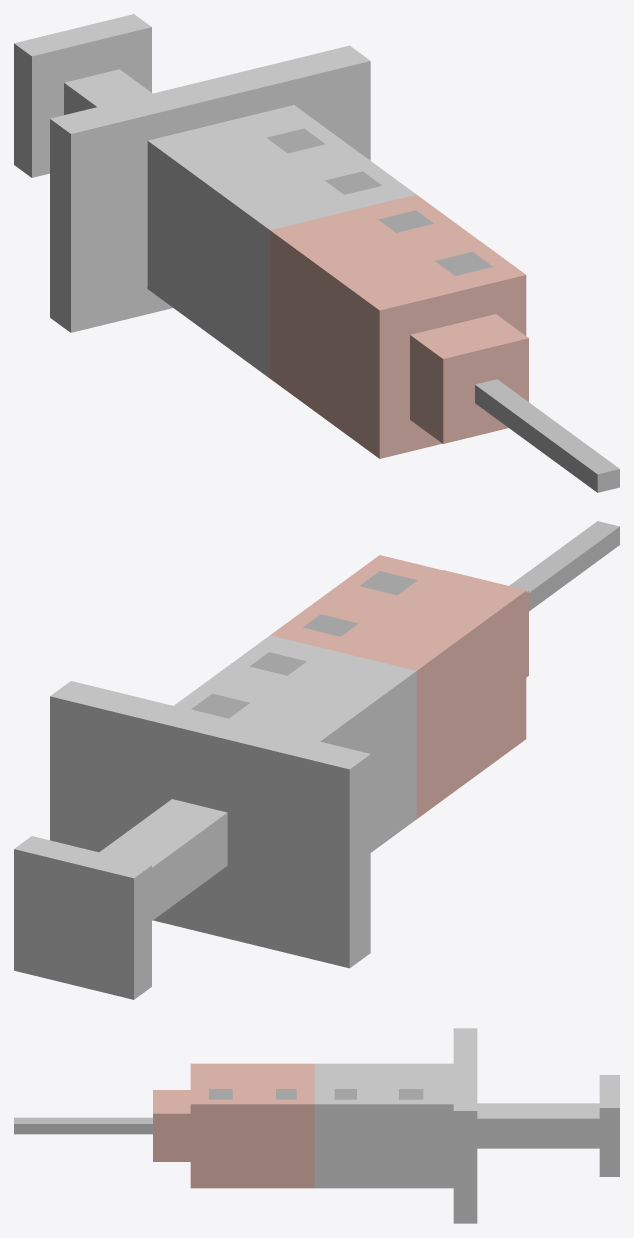
Rendered from syringe.fbx.
The picture shows the model from 3 angles, top to bottom: view 1: azimuth 30°, elevation 25°; view 2: azimuth 150°, elevation 25°; view 3: azimuth 270°, elevation 25°; orthographic projection. The views are drawn at different scales.
Parts seen in each view (by area): view 1: Cube_43; view 2: Cube_43; view 3: Cube_43.
Boxes of the visible parts, box(x1,y1,x2,y2) form: Cube_43: box(14, 14, 619, 492); Cube_43: box(14, 521, 619, 999); Cube_43: box(14, 1028, 619, 1223).
Size of the model in its own units: 4.35 by 2.76 by 13.43.
